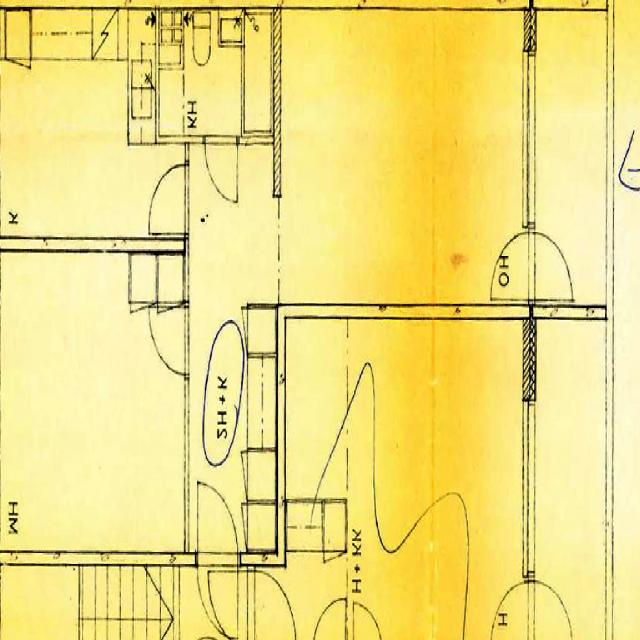door: (198, 550, 239, 638), (198, 476, 239, 563), (486, 231, 536, 298), (523, 231, 572, 298), (147, 164, 189, 232), (149, 307, 189, 372), (206, 136, 238, 202)
